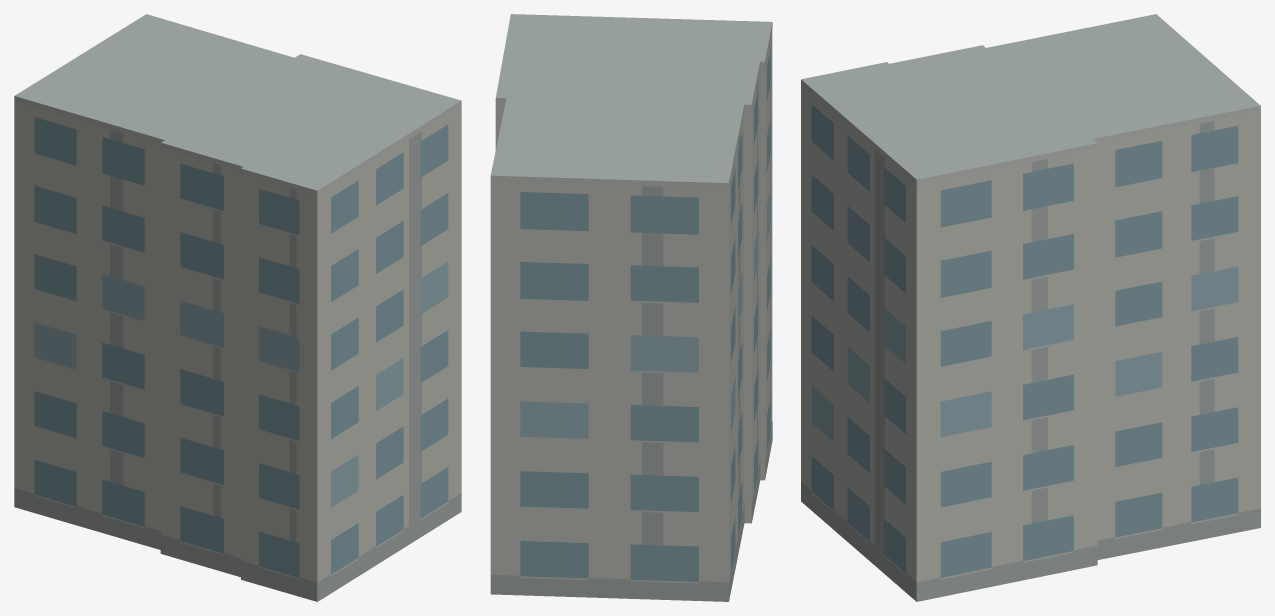
File: survey-upis-32824148.glb
3 views of the same model, side by side, from view 1: azimuth 30°, elevation 25°; view 2: azimuth 150°, elevation 25°; view 3: azimuth 270°, elevation 25° (orthographic). The views are drawn at different scales.
Visible parts, largest first — view 1: survey-upis-32824148.tmp; view 2: survey-upis-32824148.tmp; view 3: survey-upis-32824148.tmp.
Part boxes in pixels (bbox=[...]): survey-upis-32824148.tmp: bbox=[14, 14, 461, 601]; survey-upis-32824148.tmp: bbox=[490, 14, 772, 601]; survey-upis-32824148.tmp: bbox=[801, 14, 1260, 601].
Size of the model in its own units: 15.41 by 18.3 by 18.07.
